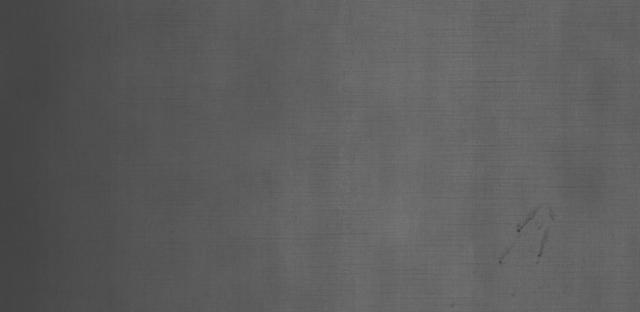water_spot: (485, 199, 570, 270)
